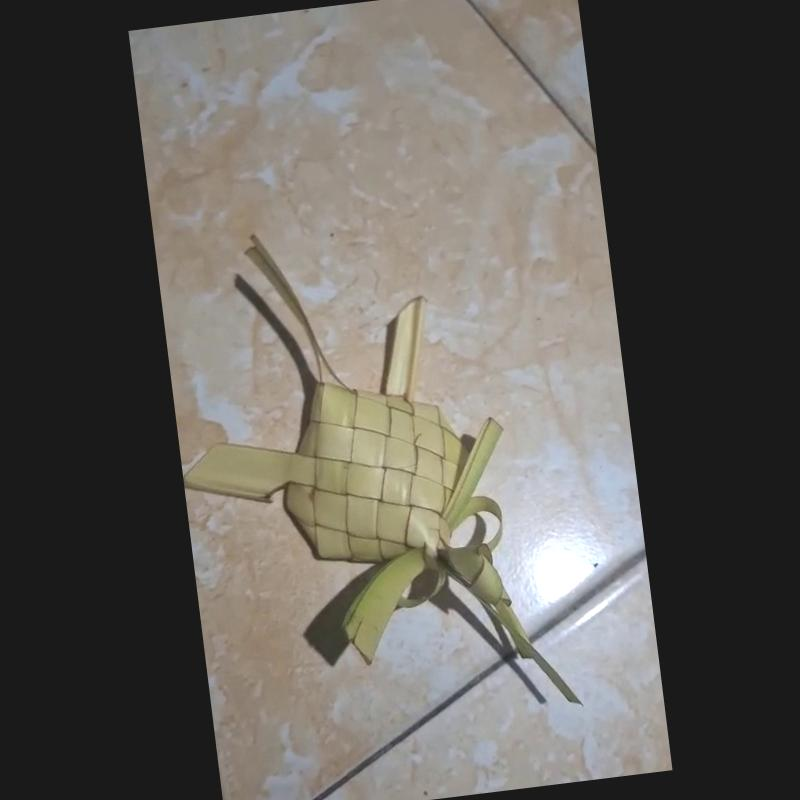Tipat Dampulan: (182, 223, 591, 707)
